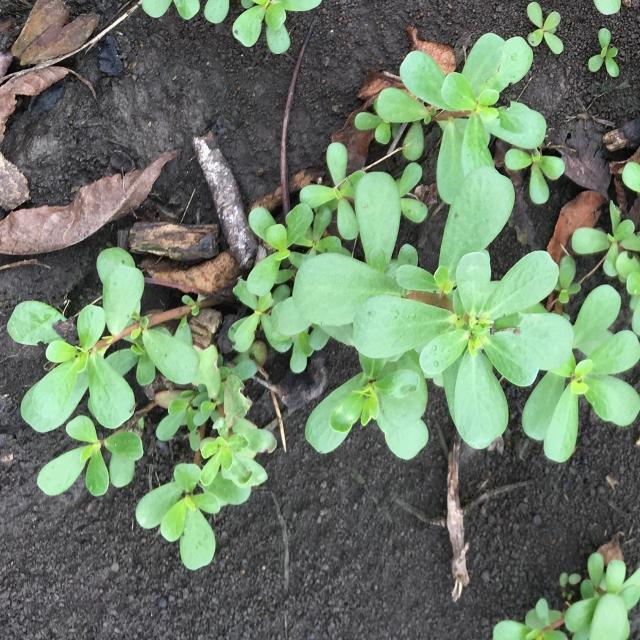Purslane: (7, 32, 640, 571), (493, 553, 640, 640), (140, 0, 322, 54), (571, 200, 640, 336), (527, 1, 564, 54), (588, 28, 620, 77)
